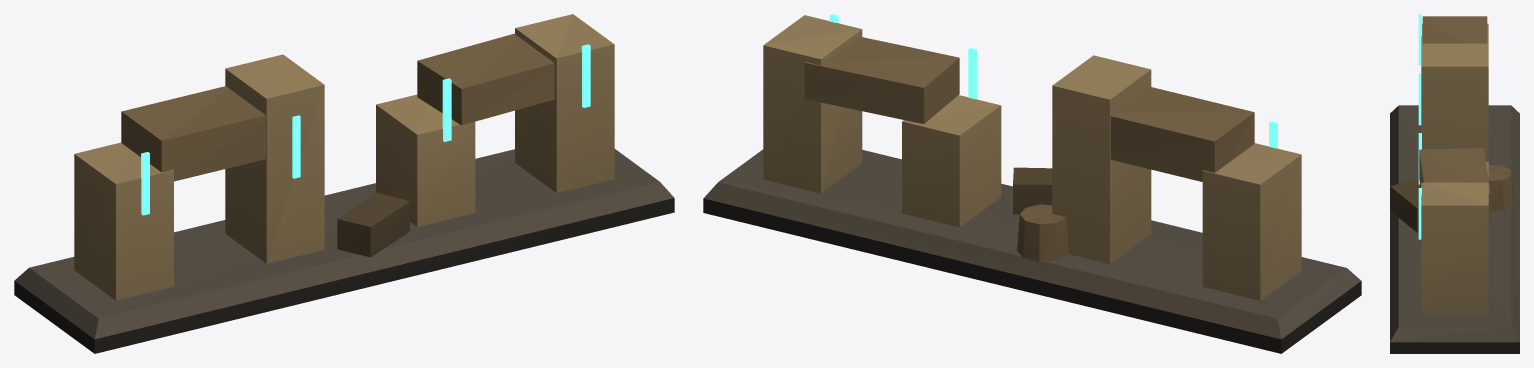
Rendered from temple-arcade.glb.
3 renders of one model, left to right at view 1: azimuth 30°, elevation 25°; view 2: azimuth 150°, elevation 25°; view 3: azimuth 270°, elevation 25°, orthographic. The views are drawn at different scales.
Bounding box in the file's own units: 5 × 1.6 × 1.2.
